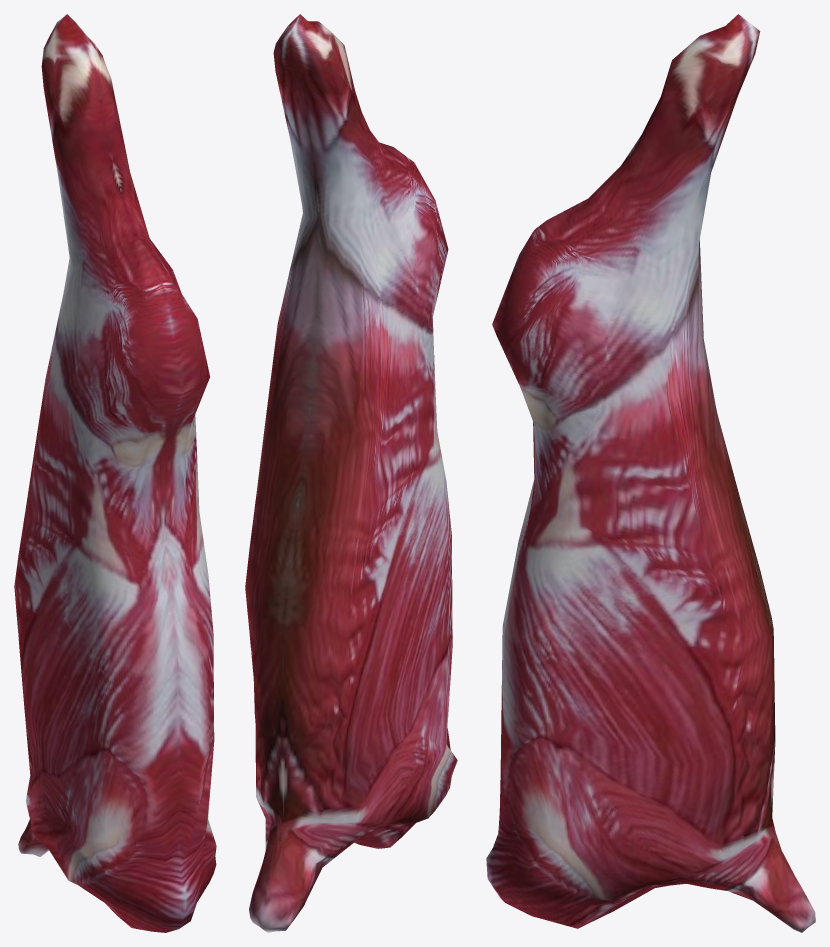
Rendered from Hanging_Meat.fbx.
The picture shows the model from 3 angles, left to right: view 1: azimuth 30°, elevation 25°; view 2: azimuth 150°, elevation 25°; view 3: azimuth 270°, elevation 25°; orthographic projection. The views are drawn at different scales.
Parts seen in each view (by area): view 1: Hanging_beef; view 2: Hanging_beef; view 3: Hanging_beef.
Part boxes in pixels (x1,y1,x2,y2): Hanging_beef: [14, 14, 216, 932]; Hanging_beef: [245, 14, 457, 932]; Hanging_beef: [486, 14, 815, 932].
Bounding box in the file's own units: 69.56 × 484 × 158.
